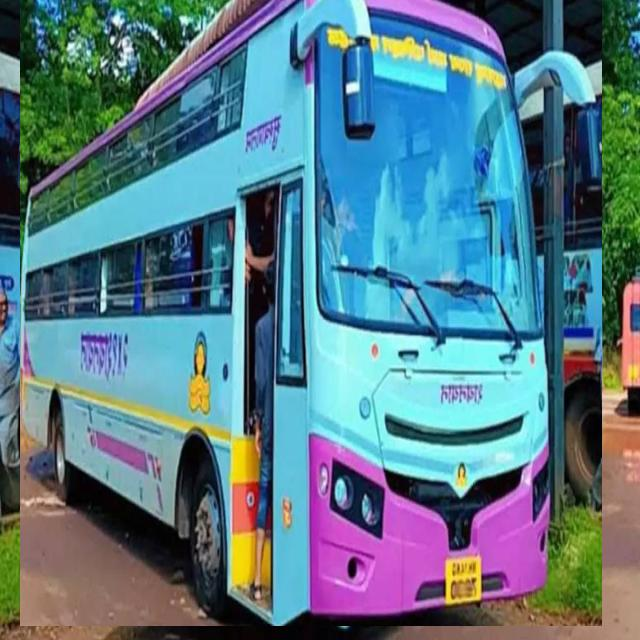bus: (20, 0, 602, 626)
